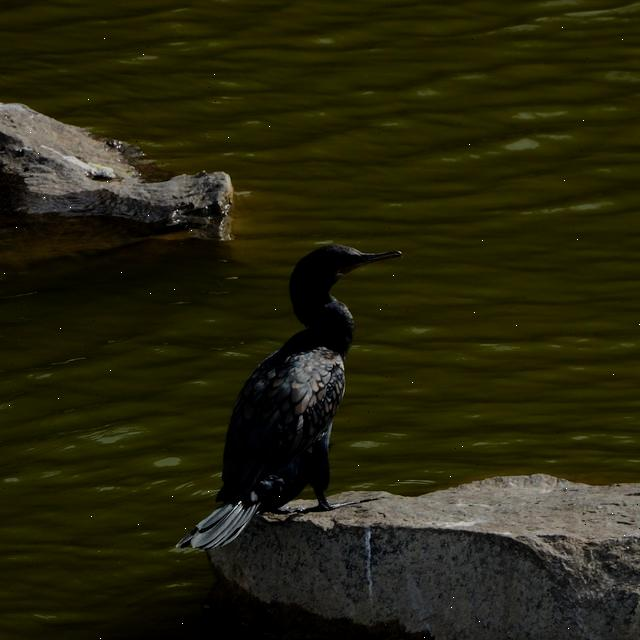cormorant: (166, 224, 414, 576)
